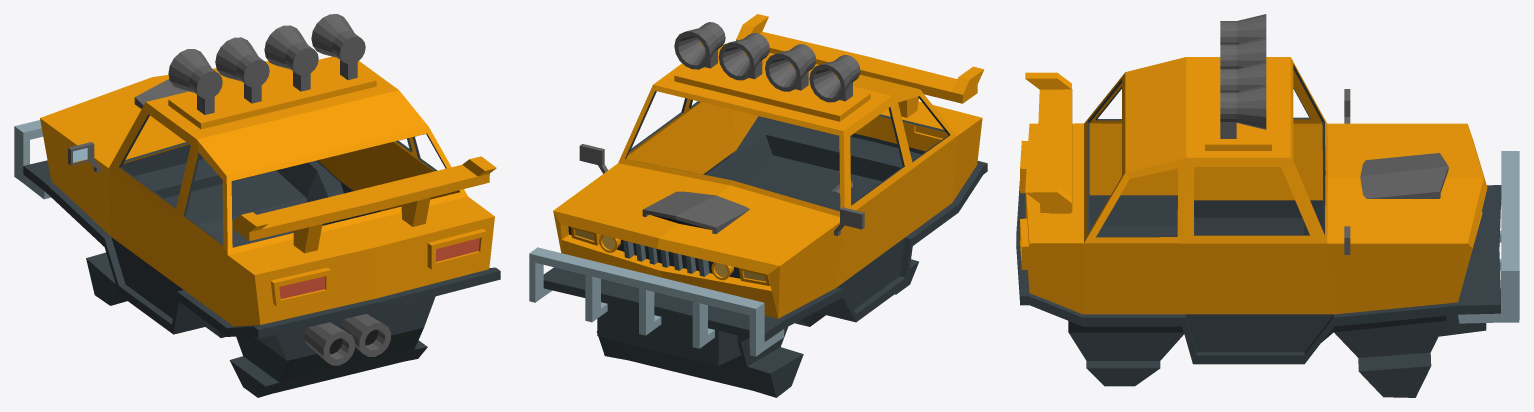
File: Cars.fbx
3 renders of one model, left to right at view 1: azimuth 30°, elevation 25°; view 2: azimuth 150°, elevation 25°; view 3: azimuth 270°, elevation 25°, orthographic. The views are drawn at different scales.
Visible parts, largest first — view 1: Car_03.002; view 2: Car_03.002; view 3: Car_03.002.
Part boxes in pixels (x1=…): Car_03.002: x1=14, y1=14, x2=500, y2=397; Car_03.002: x1=529, y1=14, x2=987, y2=397; Car_03.002: x1=1016, y1=14, x2=1519, y2=397.
Size of the model in its own units: 452 by 426 by 645.
